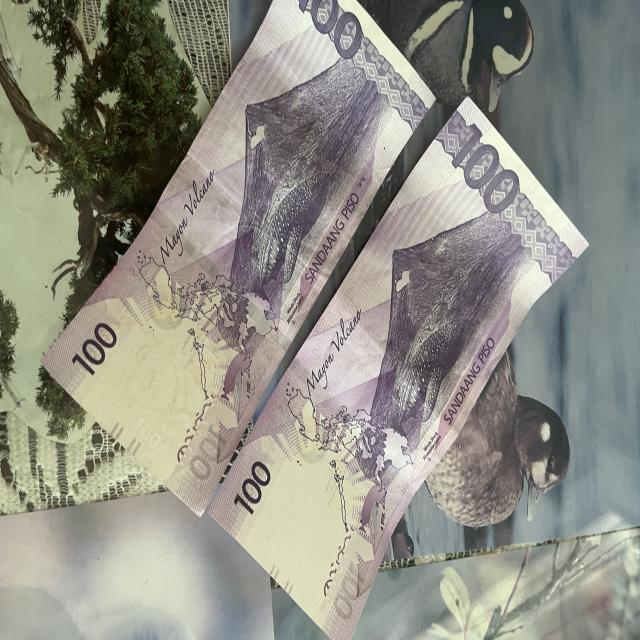100_whale: (238, 154, 328, 330), (379, 300, 465, 448)
100_whale_watermark: (209, 331, 267, 408), (343, 478, 403, 539)
value_watermark: (127, 404, 165, 456)
watermark: (104, 314, 216, 466), (258, 462, 357, 596)
